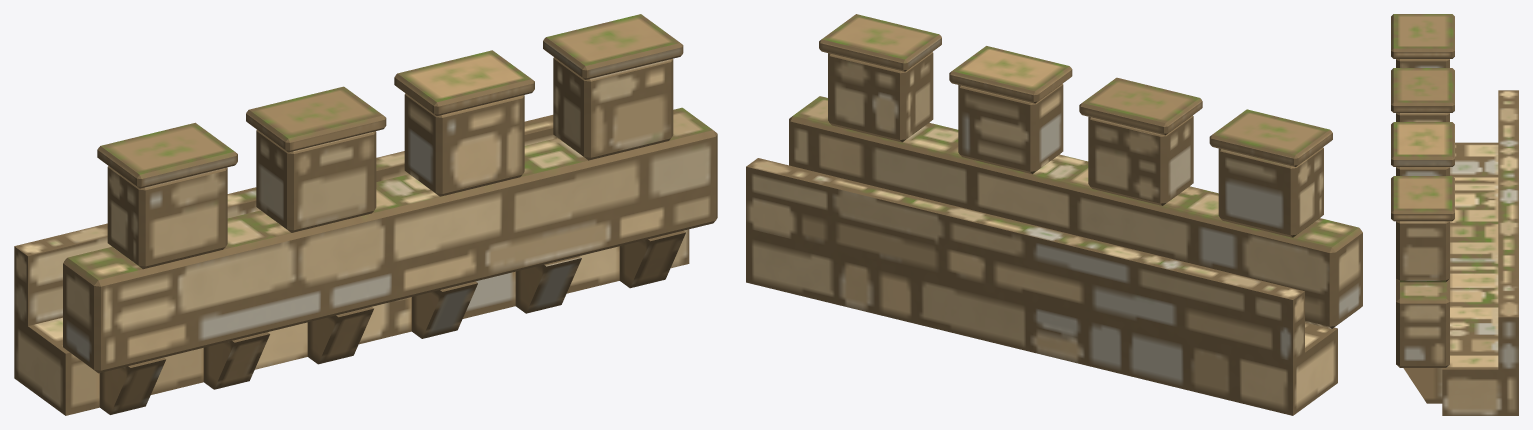
File: Kit_Keep_Crown.fbx
The picture shows the model from 3 angles, left to right: view 1: azimuth 30°, elevation 25°; view 2: azimuth 150°, elevation 25°; view 3: azimuth 270°, elevation 25°; orthographic projection. The views are drawn at different scales.
Visible parts, largest first — view 1: Kit_Keep_Crown_LOD0; view 2: Kit_Keep_Crown_LOD0; view 3: Kit_Keep_Crown_LOD0.
Boxes of the visible parts, <box> form: Kit_Keep_Crown_LOD0: <box>14,14,717,415</box>; Kit_Keep_Crown_LOD0: <box>746,14,1362,415</box>; Kit_Keep_Crown_LOD0: <box>1391,14,1518,415</box>.
Size of what is drawn, in the model's own units: 4.2 by 1.64 by 1.
Materials: 1 (1 with a texture image).
